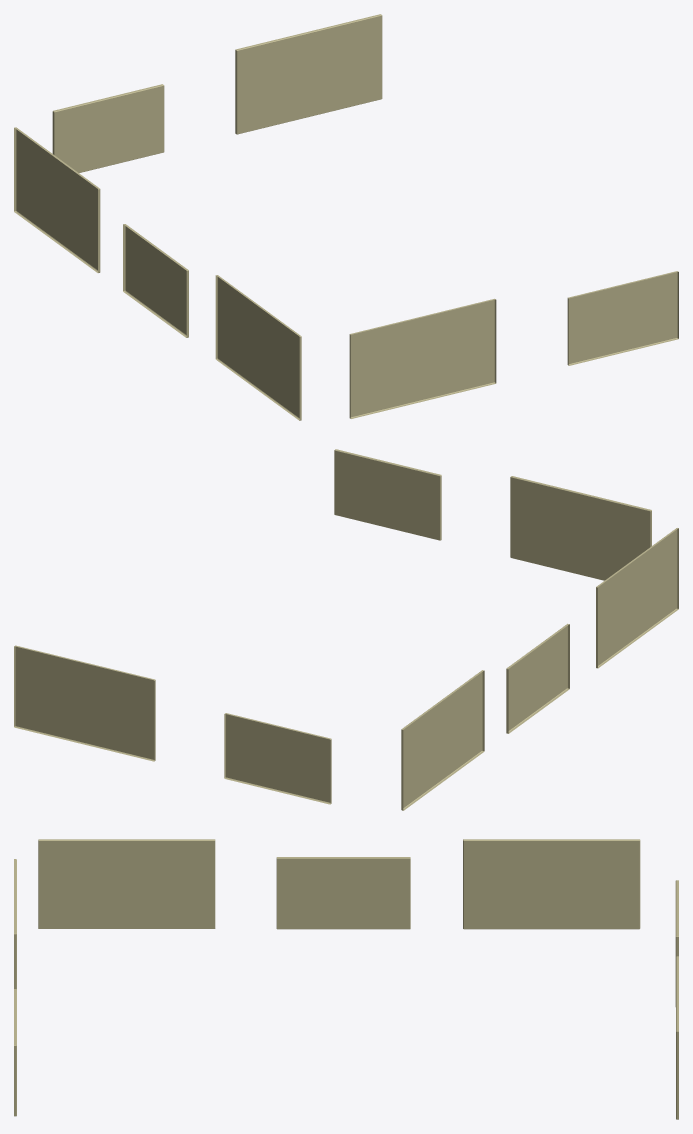
File: Room02_Paintings.FBX
3 views of the same model, one above another, from view 1: azimuth 30°, elevation 25°; view 2: azimuth 150°, elevation 25°; view 3: azimuth 270°, elevation 25° (orthographic). The views are drawn at different scales.
Parts seen in each view (by area): view 1: Room02_Painting_01, Room02_Painting_06, Room02_Painting_008, Room02_Painting_03, Room02_Painting_05, Room02_Painting_02, Room02_Painting_04; view 2: Room02_Painting_01, Room02_Painting_06, Room02_Painting_02, Room02_Painting_008, Room02_Painting_03, Room02_Painting_05, Room02_Painting_04; view 3: Room02_Painting_03, Room02_Painting_05, Room02_Painting_04, Room02_Painting_01.
Part boxes in pixels (x1,y1,x2,y2): Room02_Painting_01: (235, 14, 382, 134); Room02_Painting_06: (349, 298, 496, 418); Room02_Painting_008: (567, 271, 678, 365); Room02_Painting_03: (14, 127, 100, 272); Room02_Painting_05: (215, 275, 301, 420); Room02_Painting_02: (52, 84, 164, 172); Room02_Painting_04: (123, 224, 188, 337); Room02_Painting_01: (14, 645, 155, 761); Room02_Painting_06: (510, 476, 651, 580); Room02_Painting_02: (224, 713, 331, 804); Room02_Painting_008: (334, 449, 441, 540); Room02_Painting_03: (401, 670, 484, 810); Room02_Painting_05: (596, 528, 678, 668); Room02_Painting_04: (506, 623, 569, 733); Room02_Painting_03: (463, 839, 640, 929); Room02_Painting_05: (38, 839, 215, 928); Room02_Painting_04: (276, 857, 410, 929); Room02_Painting_01: (676, 956, 678, 1119).
Size of the model in its own units: 8465 by 1897 by 12007.
